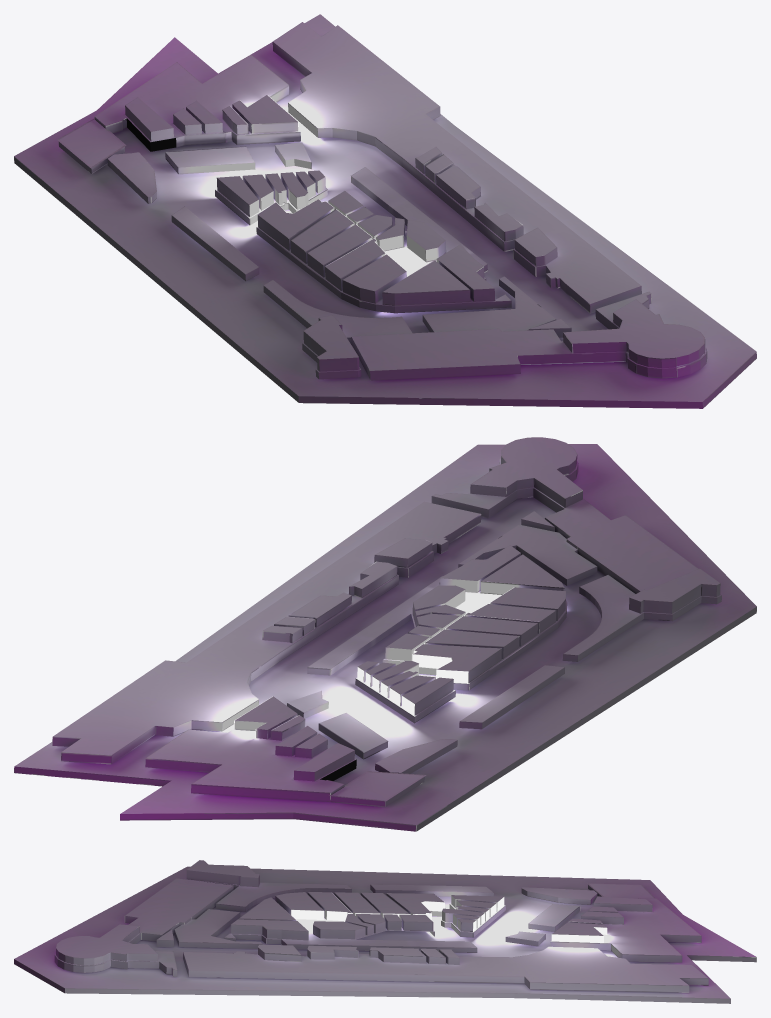
Rendered from new_mall.gltf.
3 views of the same model, one above another, from view 1: azimuth 30°, elevation 25°; view 2: azimuth 150°, elevation 25°; view 3: azimuth 270°, elevation 25° (orthographic). The views are drawn at different scales.
Parts seen in each view (by area): view 1: world; view 2: world; view 3: world.
Boxes of the visible parts, x1,y1,x2,y2 form: world: (14, 14, 756, 408); world: (14, 437, 756, 831); world: (14, 860, 756, 1003).
Bounding box in the file's own units: 30.11 × 3.2 × 67.29.
2 materials, 1 textured.
